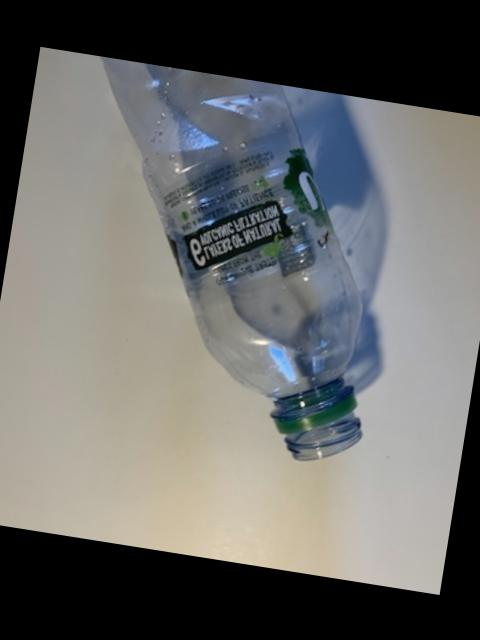plastic: (101, 55, 360, 457)
